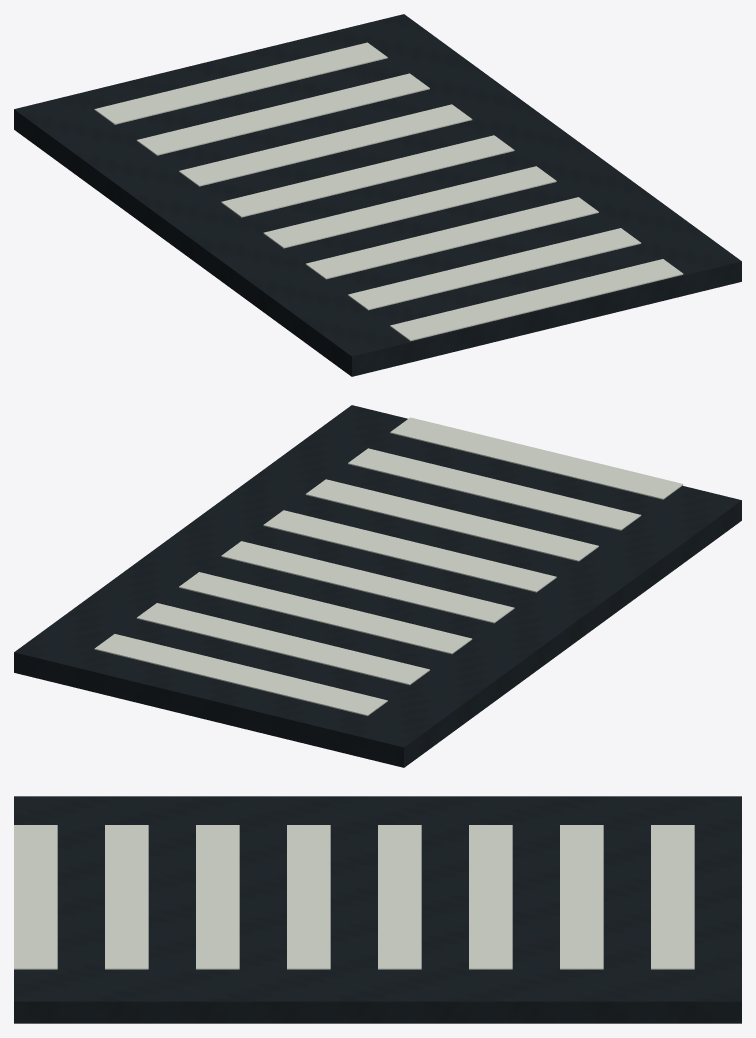
File: Transit_Road_2L_Crosswalk_4m.glb
3 views of the same model, one above another, from view 1: azimuth 30°, elevation 25°; view 2: azimuth 150°, elevation 25°; view 3: azimuth 270°, elevation 25° (orthographic). The views are drawn at different scales.
Visible parts, largest first — view 1: Transit_Road_2L_Crosswalk_4m_Surface, Transit_Road_2L_Crosswalk_4m_MarkCrosswalk; view 2: Transit_Road_2L_Crosswalk_4m_Surface, Transit_Road_2L_Crosswalk_4m_MarkCrosswalk; view 3: Transit_Road_2L_Crosswalk_4m_Surface, Transit_Road_2L_Crosswalk_4m_MarkCrosswalk.
Boxes of the visible parts, left/top/right/bottom form: Transit_Road_2L_Crosswalk_4m_Surface: left=14, top=14, right=741, bottom=376; Transit_Road_2L_Crosswalk_4m_MarkCrosswalk: left=94, top=42, right=683, bottom=341; Transit_Road_2L_Crosswalk_4m_Surface: left=14, top=405, right=741, bottom=767; Transit_Road_2L_Crosswalk_4m_MarkCrosswalk: left=94, top=417, right=683, bottom=716; Transit_Road_2L_Crosswalk_4m_Surface: left=14, top=796, right=741, bottom=1023; Transit_Road_2L_Crosswalk_4m_MarkCrosswalk: left=14, top=825, right=694, bottom=969.
Size of the model in its own units: 4 by 0.219 by 6.
2 materials, 1 textured.
